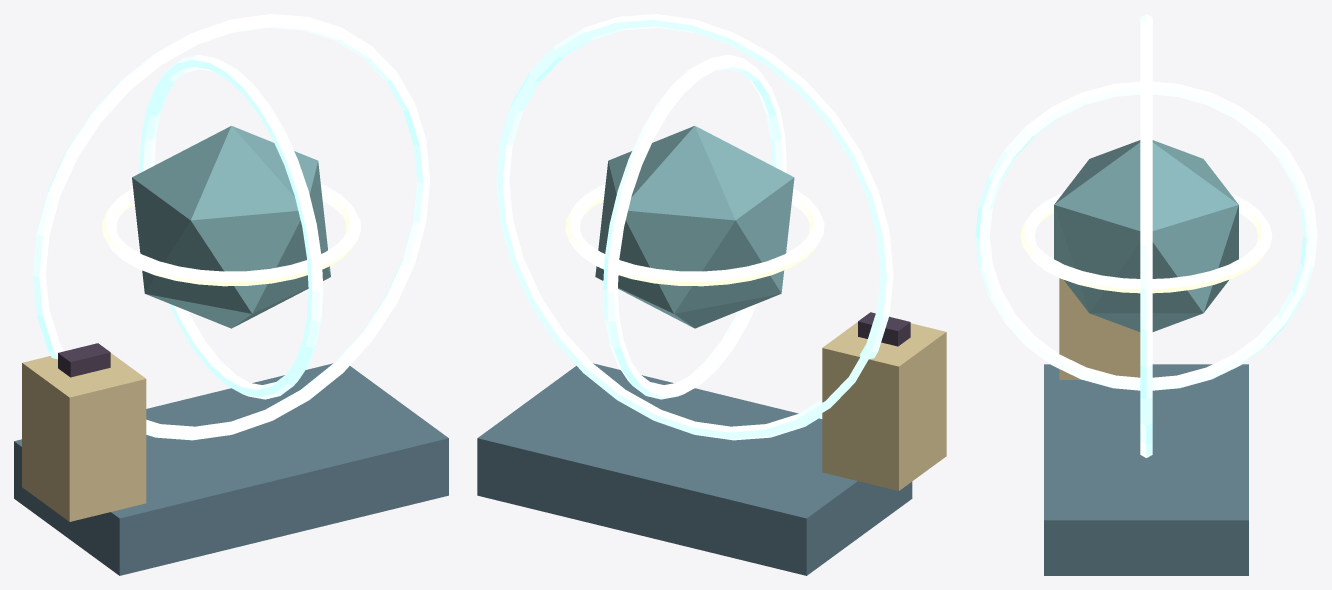
The model's file is travel-a68317bc404e.glb.
3 views of the same model, side by side, from view 1: azimuth 30°, elevation 25°; view 2: azimuth 150°, elevation 25°; view 3: azimuth 270°, elevation 25° (orthographic). The views are drawn at different scales.
Visible parts, largest first — view 1: station, globe, suitcase, portal, meridian, equator, handle; view 2: station, globe, portal, suitcase, meridian, equator, handle; view 3: station, globe, meridian, portal, equator, suitcase.
Part boxes in pixels (bbox=[...]): station: bbox=[14, 363, 448, 575]; globe: bbox=[132, 126, 330, 328]; suitcase: bbox=[22, 353, 146, 521]; portal: bbox=[33, 14, 429, 440]; meridian: bbox=[139, 55, 323, 399]; equator: bbox=[102, 184, 360, 286]; handle: bbox=[58, 343, 110, 377]; station: bbox=[477, 363, 912, 575]; globe: bbox=[595, 126, 794, 328]; portal: bbox=[496, 14, 893, 440]; suitcase: bbox=[822, 322, 946, 490]; meridian: bbox=[603, 54, 786, 399]; equator: bbox=[565, 184, 824, 286]; handle: bbox=[858, 312, 910, 346]; station: bbox=[1044, 364, 1248, 575]; globe: bbox=[1054, 140, 1238, 331]; meridian: bbox=[975, 81, 1317, 390]; portal: bbox=[1140, 14, 1152, 457]; equator: bbox=[1020, 193, 1272, 293]; suitcase: bbox=[1059, 278, 1140, 379].
Size of the model in its own units: 2.21 by 2.49 by 1.67.
